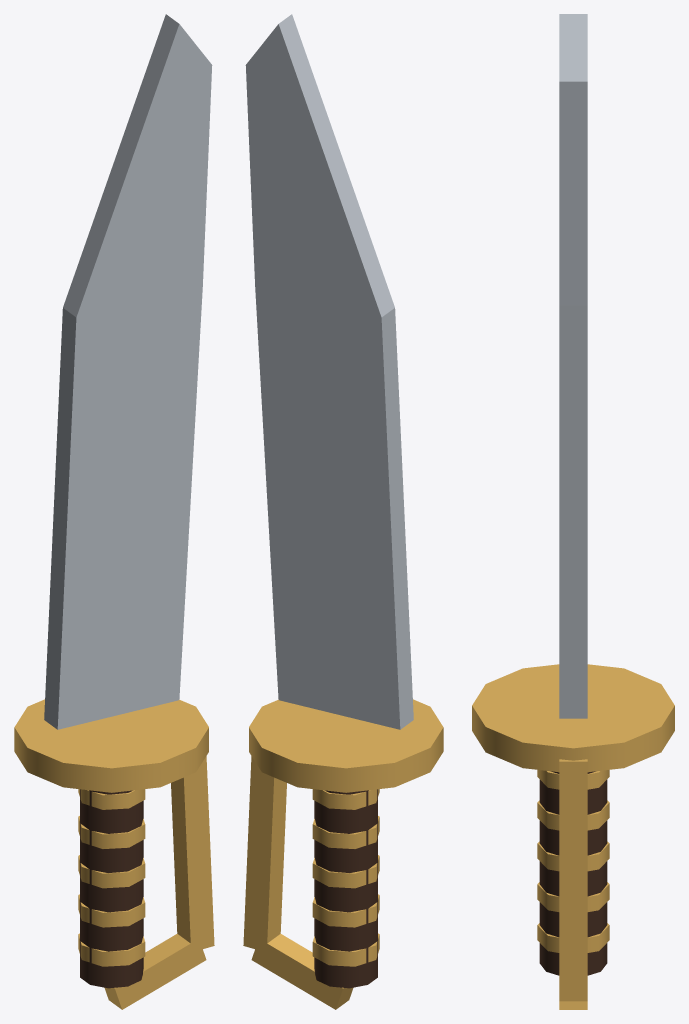
Rendered from pirate-cutlass.glb.
3 views of the same model, side by side, from view 1: azimuth 30°, elevation 25°; view 2: azimuth 150°, elevation 25°; view 3: azimuth 270°, elevation 25° (orthographic). The views are drawn at different scales.
Visible parts, largest first — view 1: Blade, Guard, Grip, KnuckleGuard, Wrap (×5), GuardReturn; view 2: Blade, Guard, Grip, KnuckleGuard, Wrap (×5), GuardReturn; view 3: Blade, Guard, KnuckleGuard, Grip, Wrap (×5).
Boxes of the visible parts, bbox=[...] form: Blade: bbox=[44, 14, 212, 729]; Guard: bbox=[14, 699, 208, 792]; Grip: bbox=[80, 789, 143, 988]; KnuckleGuard: bbox=[171, 756, 214, 952]; Wrap (×5): bbox=[78, 789, 145, 966]; GuardReturn: bbox=[104, 934, 206, 1009]; Blade: bbox=[245, 14, 413, 729]; Guard: bbox=[249, 699, 443, 792]; Grip: bbox=[314, 789, 377, 988]; KnuckleGuard: bbox=[243, 756, 286, 952]; Wrap (×5): bbox=[312, 789, 379, 966]; GuardReturn: bbox=[251, 934, 353, 1009]; Blade: bbox=[559, 14, 587, 718]; Guard: bbox=[472, 664, 674, 772]; KnuckleGuard: bbox=[559, 759, 587, 1001]; Grip: bbox=[539, 771, 607, 975]; Wrap (×5): bbox=[537, 770, 609, 952].
Size of the model in its own units: 0.1925 by 0.9919 by 0.18.
